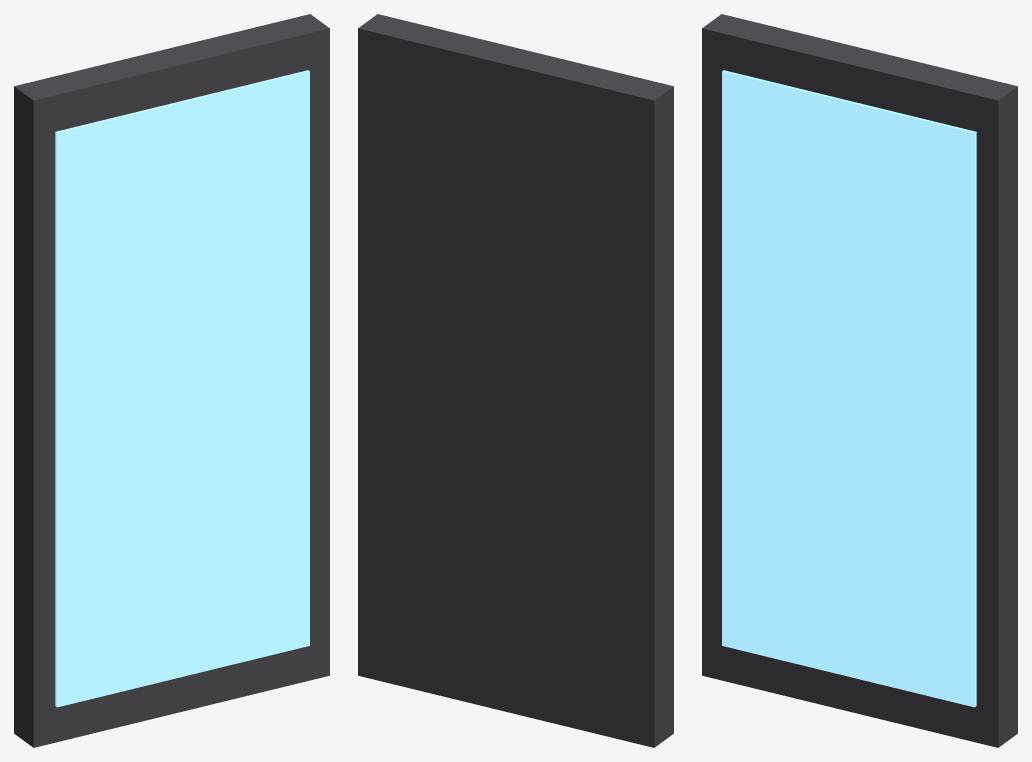
The model's file is phone.glb.
The picture shows the model from 3 angles, left to right: view 1: azimuth 30°, elevation 25°; view 2: azimuth 150°, elevation 25°; view 3: azimuth 330°, elevation 25°; orthographic projection.
Parts seen in each view (by area): view 1: phone; view 2: phone; view 3: phone.
Part boxes in pixels (bbox=[...]): phone: bbox=[14, 14, 329, 747]; phone: bbox=[358, 14, 673, 747]; phone: bbox=[702, 14, 1017, 747].
Bounding box in the file's own units: 0.068 × 0.142 × 0.0085.
